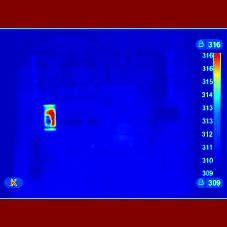Less: (28, 111, 59, 132)
